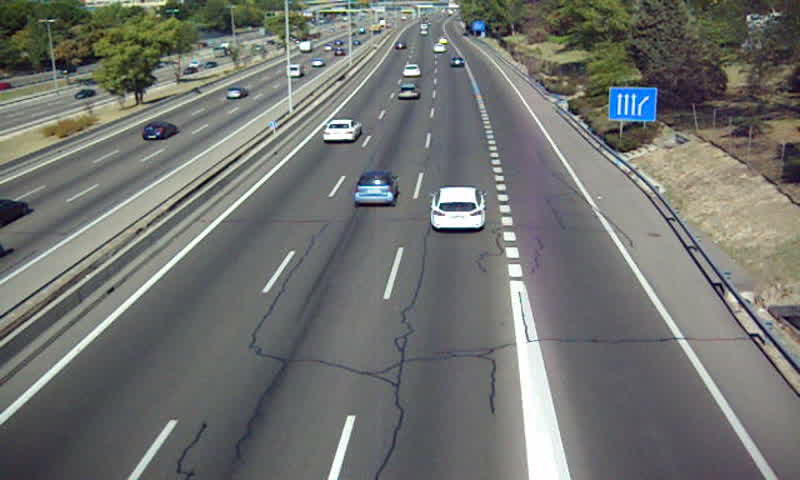car: (430, 186, 488, 232), (354, 170, 400, 204), (324, 121, 360, 140), (397, 85, 419, 102), (401, 64, 420, 78), (450, 55, 466, 68)
